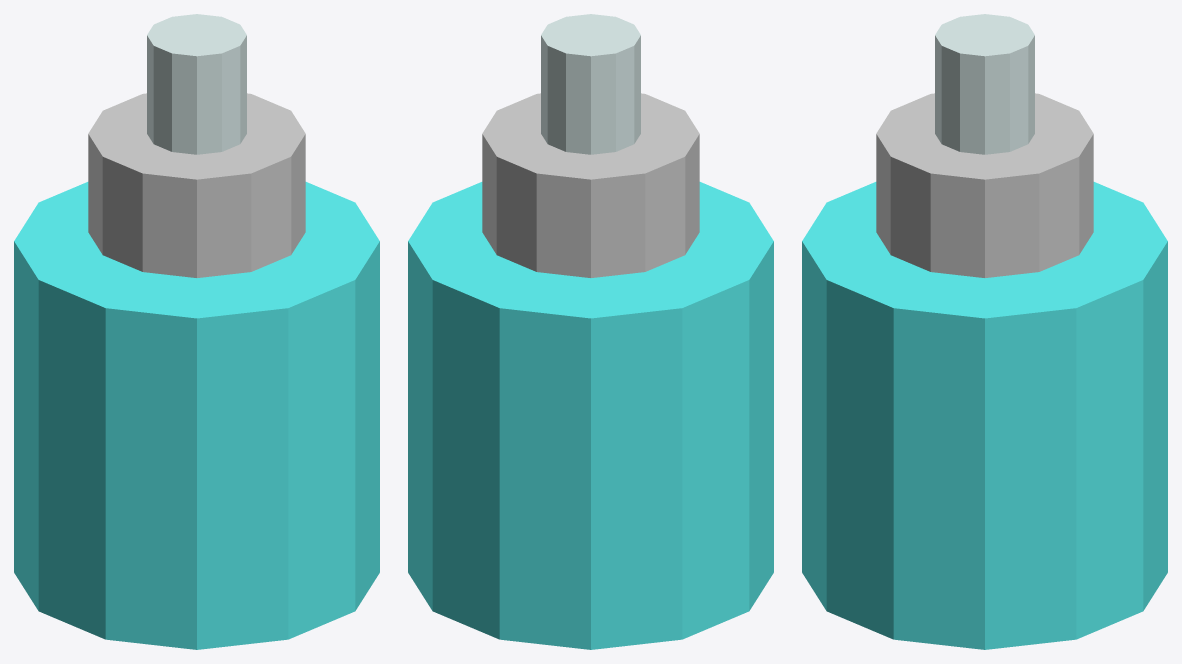
File: bottle1_1.glb
3 views of the same model, side by side, from view 1: azimuth 30°, elevation 25°; view 2: azimuth 150°, elevation 25°; view 3: azimuth 270°, elevation 25° (orthographic).
Size of the model in its own units: 0.37 by 0.6 by 0.37.
